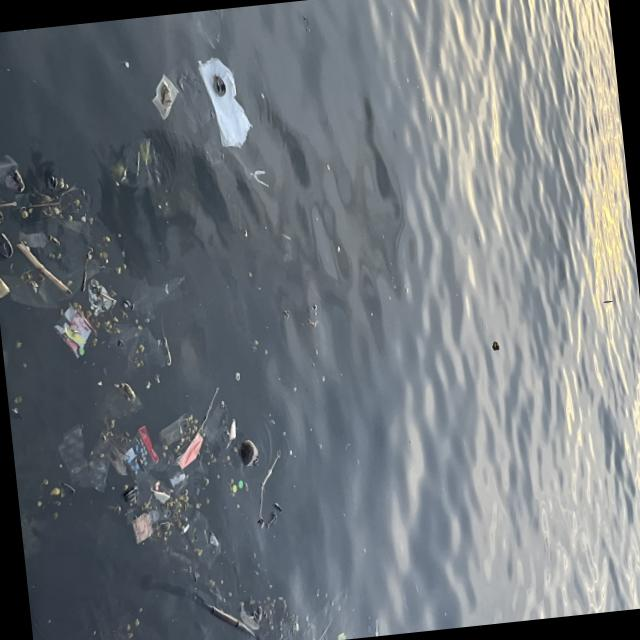foam: (226, 419, 236, 440)
plastic bottle: (197, 54, 252, 151), (53, 421, 116, 495), (106, 318, 168, 373), (106, 138, 158, 194), (116, 423, 160, 487), (178, 509, 224, 570), (128, 272, 188, 318), (49, 301, 94, 361), (0, 269, 59, 313), (147, 74, 180, 120), (104, 381, 142, 418), (200, 403, 232, 442), (85, 278, 116, 316), (157, 413, 190, 448), (164, 461, 189, 497), (18, 228, 46, 249), (238, 604, 259, 631), (0, 153, 17, 181), (148, 505, 172, 523), (0, 260, 9, 301), (149, 487, 170, 504), (251, 169, 268, 188), (336, 631, 346, 640)
unknow: (175, 433, 204, 470), (130, 512, 153, 545)
